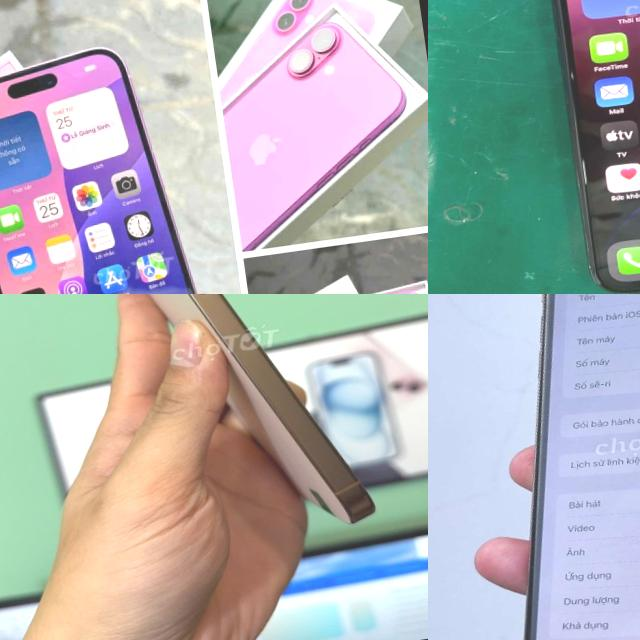gen_11: (521, 0, 640, 294)
gen_16: (0, 32, 237, 294), (149, 294, 373, 522)
gen_x_xs: (454, 294, 640, 640)
